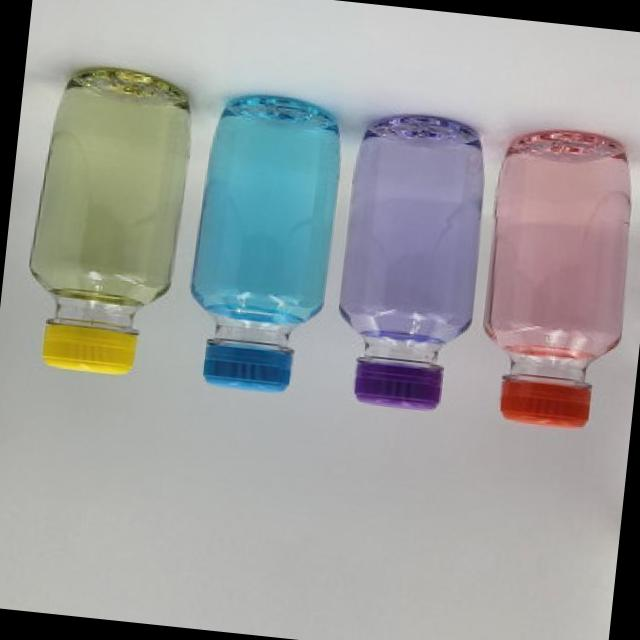BotolPlastik: (18, 62, 198, 382), (471, 124, 640, 434), (180, 89, 348, 399), (328, 108, 494, 416)
